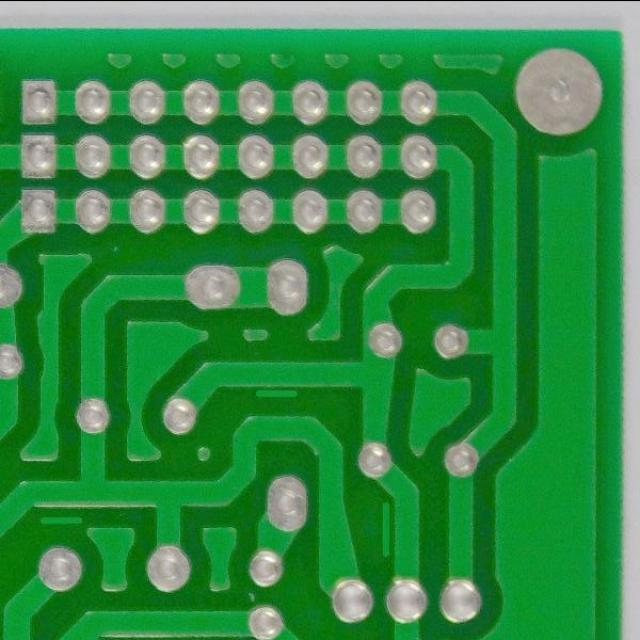Spurious_Cooper: (374, 496, 395, 562), (34, 511, 89, 530), (250, 384, 304, 403)
